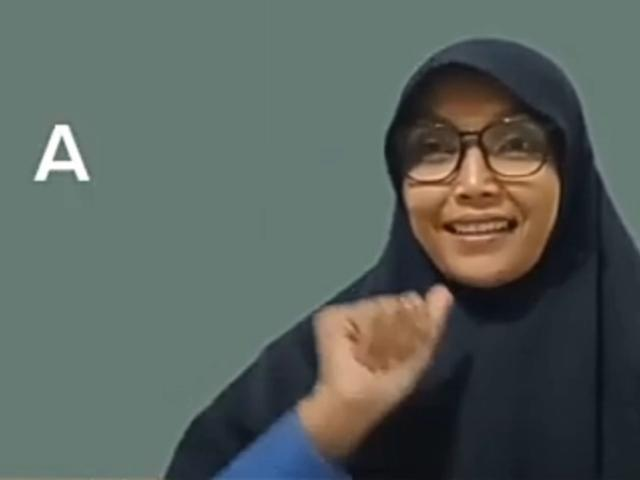A: (316, 285, 452, 411)
